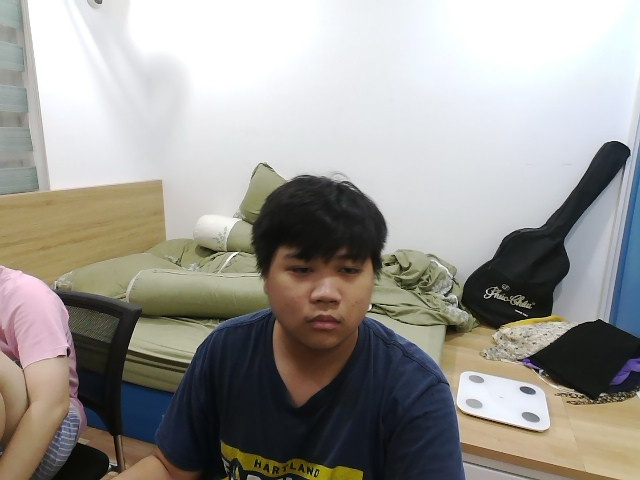face: (250, 174, 390, 351)
